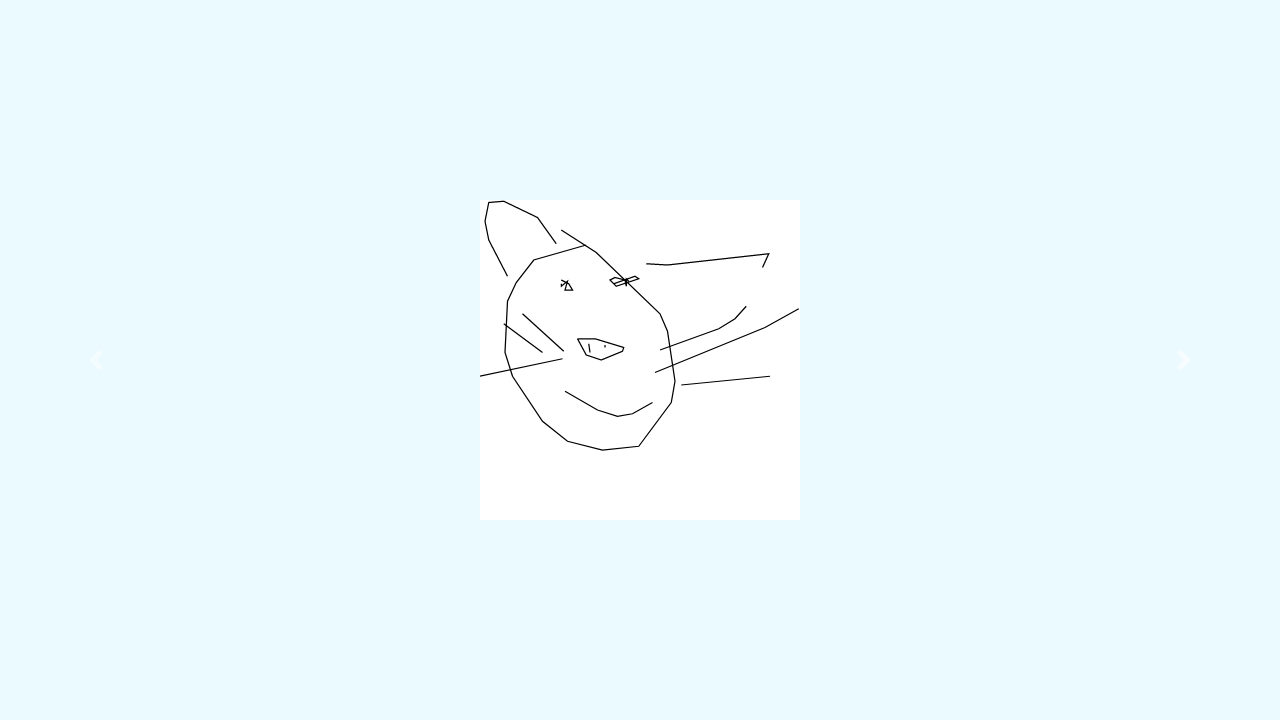cat: (477, 191, 707, 457)
